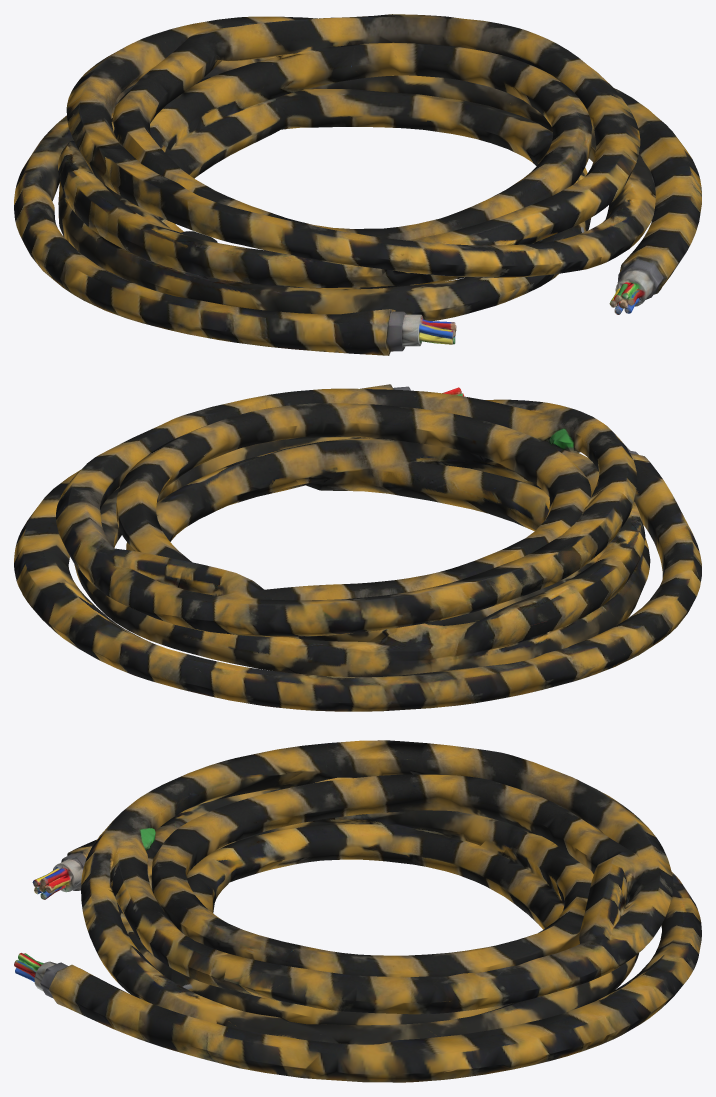
3 views of the same model, one above another, from view 1: azimuth 30°, elevation 25°; view 2: azimuth 150°, elevation 25°; view 3: azimuth 270°, elevation 25° (orthographic). The views are drawn at different scales.
Visible parts, largest first — view 1: Mesh_0; view 2: Mesh_0; view 3: Mesh_0.
Part boxes in pixels (left/top/right/bottom): Mesh_0: left=14, top=14, right=701, bottom=355; Mesh_0: left=14, top=384, right=701, bottom=711; Mesh_0: left=14, top=740, right=701, bottom=1082.
Size of the model in its own units: 2.47 by 0.4 by 2.53.
1 material, 1 textured.
